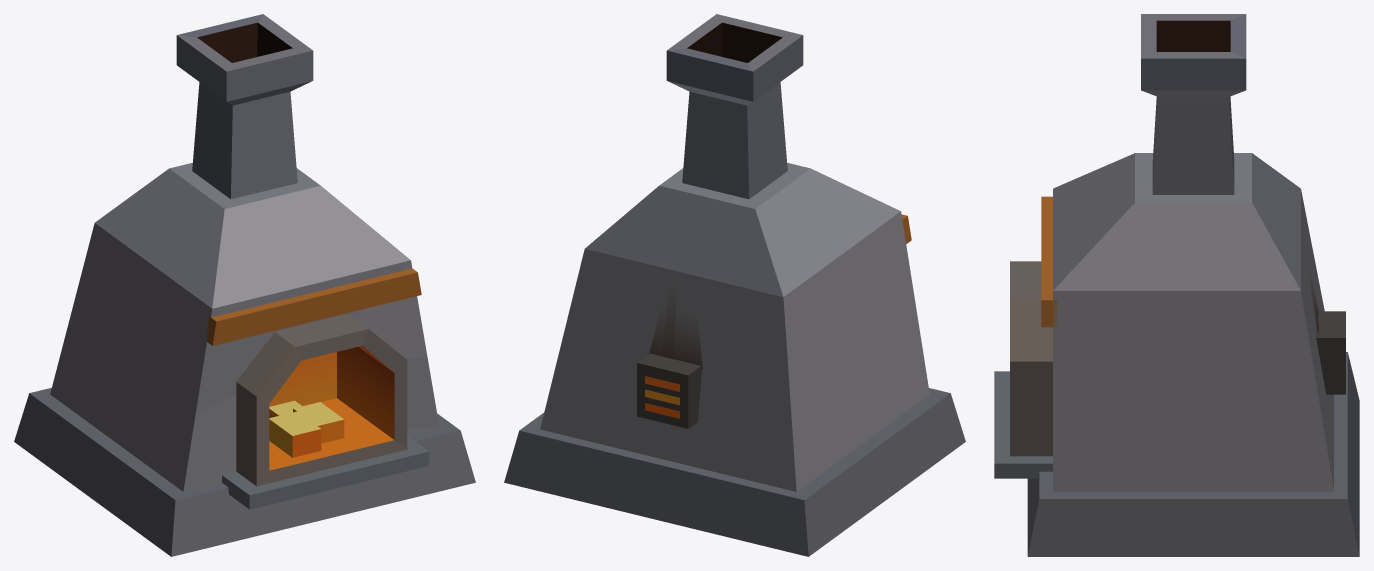
The model's file is Furnace.glb.
The picture shows the model from 3 angles, left to right: view 1: azimuth 30°, elevation 25°; view 2: azimuth 150°, elevation 25°; view 3: azimuth 270°, elevation 25°; orthographic projection. The views are drawn at different scales.
Visible parts, largest first — view 1: Furnace; view 2: Furnace; view 3: Furnace.
Part boxes in pixels (x1=…): Furnace: x1=14, y1=14, x2=475, y2=556; Furnace: x1=504, y1=14, x2=965, y2=556; Furnace: x1=994, y1=14, x2=1359, y2=556.
Size of the model in its own units: 1.9 by 2.5 by 1.87.
